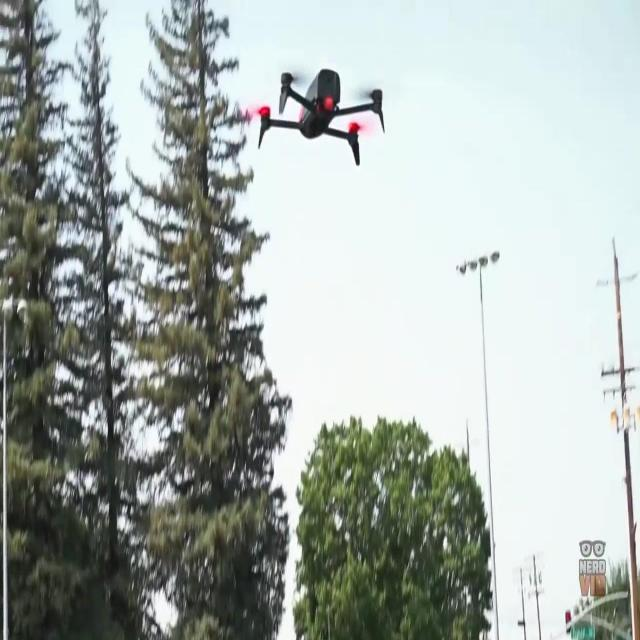UAV: (241, 68, 385, 165)
